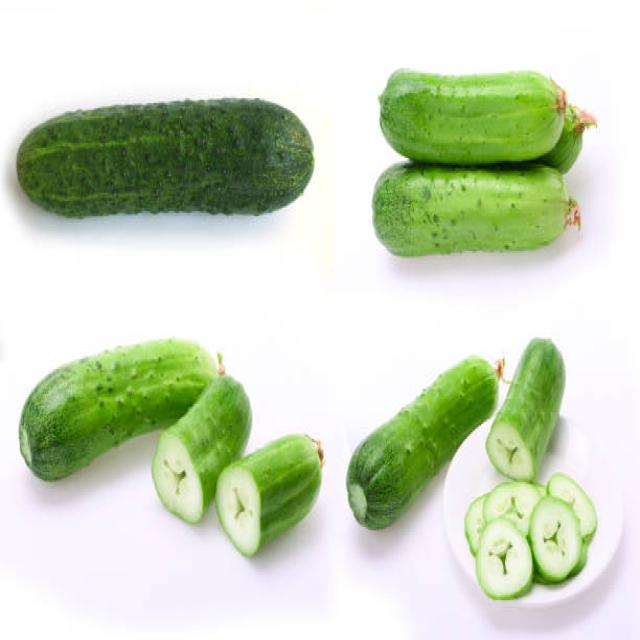cucumber: (17, 96, 315, 218), (19, 333, 219, 478), (342, 356, 500, 533), (371, 159, 568, 259), (379, 62, 564, 166), (215, 434, 322, 558), (486, 334, 566, 486)
